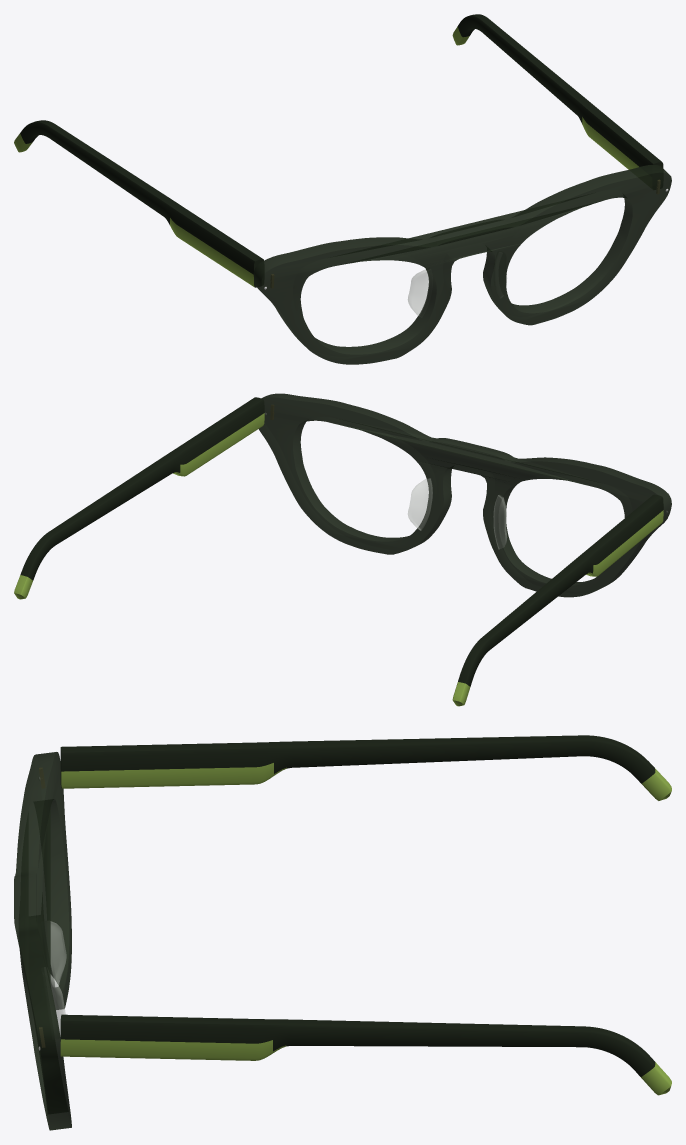
The model's file is the-look-bosque-3d.glb.
The picture shows the model from 3 angles, top to bottom: view 1: azimuth 30°, elevation 25°; view 2: azimuth 150°, elevation 25°; view 3: azimuth 270°, elevation 25°; orthographic projection. The views are drawn at different scales.
Parts seen in each view (by area): view 1: frente, varilla_der, varilla_izq, plaqueta_der; view 2: frente, varilla_izq, varilla_der, plaqueta_izq, plaqueta_der; view 3: varilla_izq, varilla_der, frente, plaqueta_der.
Boxes of the visible parts, bbox=[...] form: frente: bbox=[253, 165, 671, 364]; varilla_der: bbox=[14, 120, 263, 287]; varilla_izq: bbox=[452, 14, 663, 189]; plaqueta_der: bbox=[407, 269, 429, 315]; frente: bbox=[259, 393, 671, 597]; varilla_izq: bbox=[14, 397, 264, 599]; varilla_der: bbox=[452, 494, 663, 706]; plaqueta_izq: bbox=[408, 478, 432, 530]; plaqueta_der: bbox=[493, 495, 507, 549]; varilla_izq: bbox=[60, 1014, 671, 1095]; varilla_der: bbox=[60, 735, 671, 800]; frente: bbox=[14, 752, 71, 1130]; plaqueta_der: bbox=[50, 921, 66, 986].
Size of the model in its own units: 0.1604 by 0.0449 by 0.1485.
